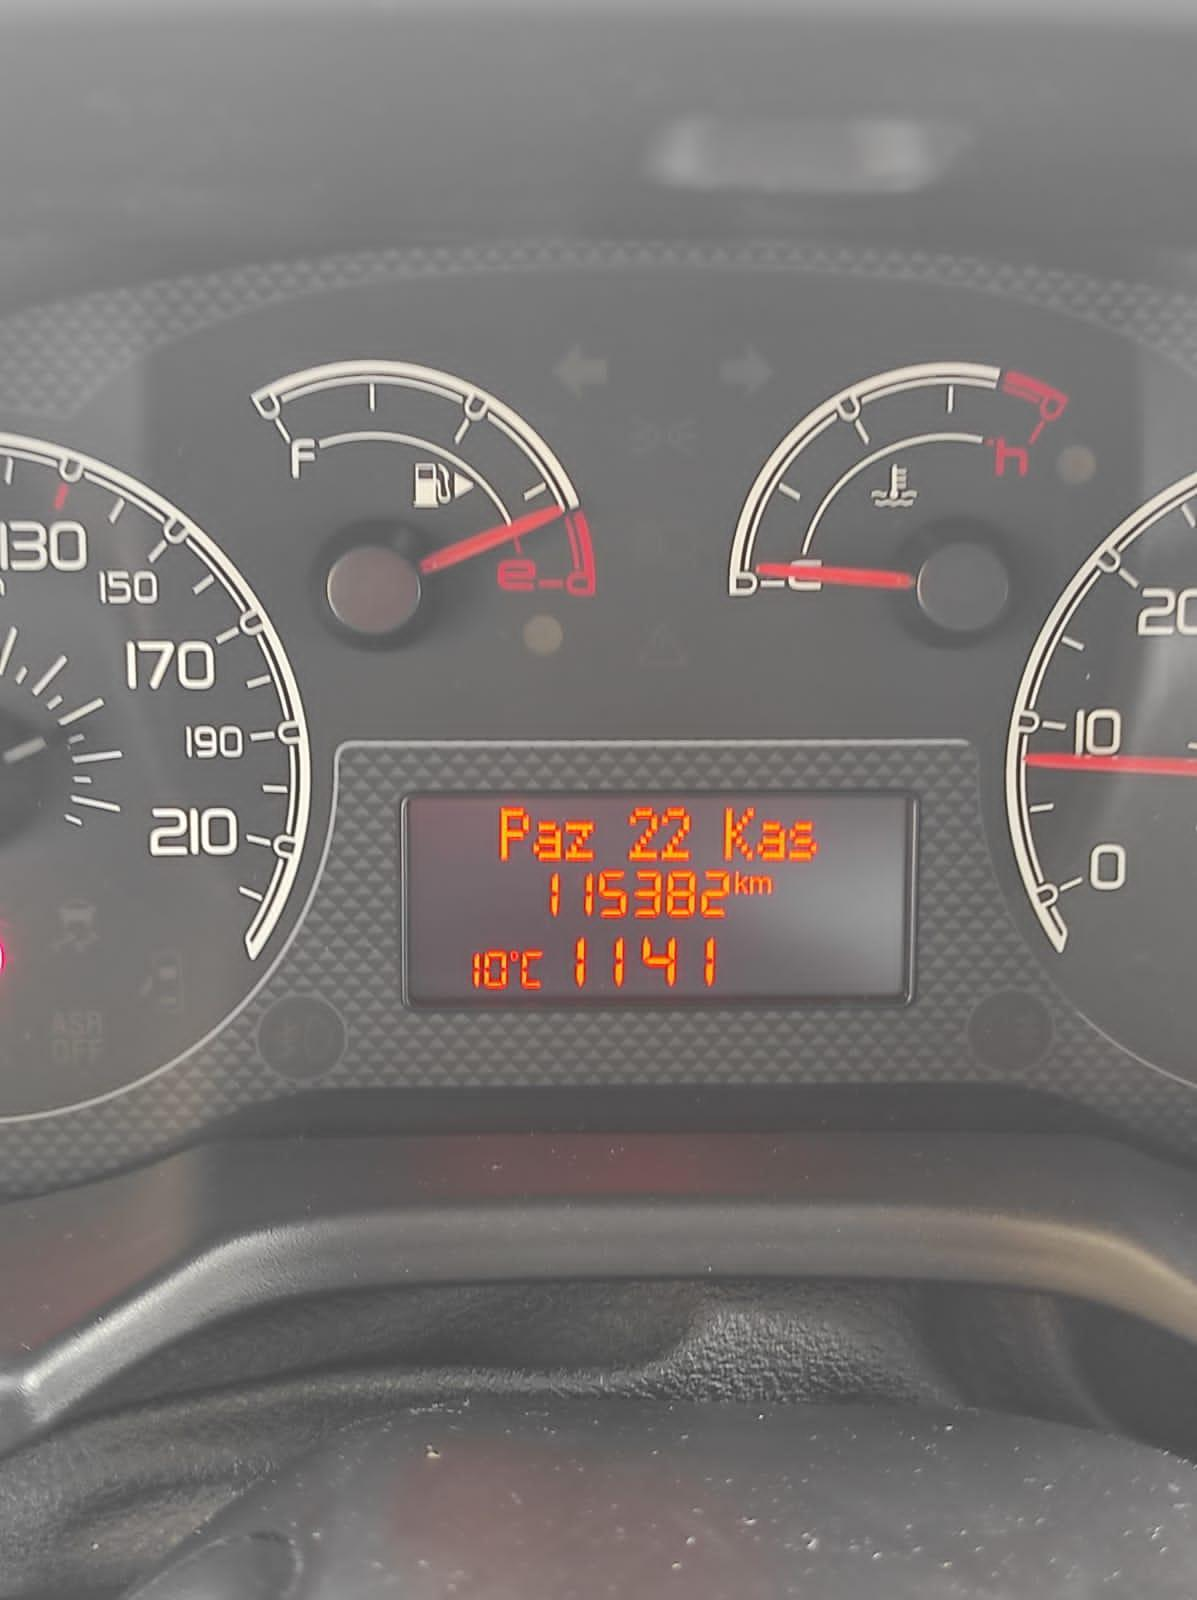0: (483, 949, 508, 989)
1: (612, 935, 626, 989), (702, 936, 715, 987), (573, 935, 586, 989), (548, 871, 561, 919), (583, 871, 595, 919), (472, 951, 482, 989)
2: (659, 806, 692, 862), (627, 806, 659, 862), (699, 868, 731, 919)
3: (632, 868, 663, 919)
4: (640, 935, 676, 985)
5: (596, 868, 627, 919)
8: (665, 868, 697, 918)
X: (497, 806, 531, 863), (722, 804, 756, 862), (562, 819, 596, 863), (531, 819, 563, 863), (754, 819, 786, 863), (787, 819, 819, 862), (518, 950, 544, 989), (749, 875, 772, 895), (733, 868, 749, 896)
odometer: (397, 784, 924, 1016)
